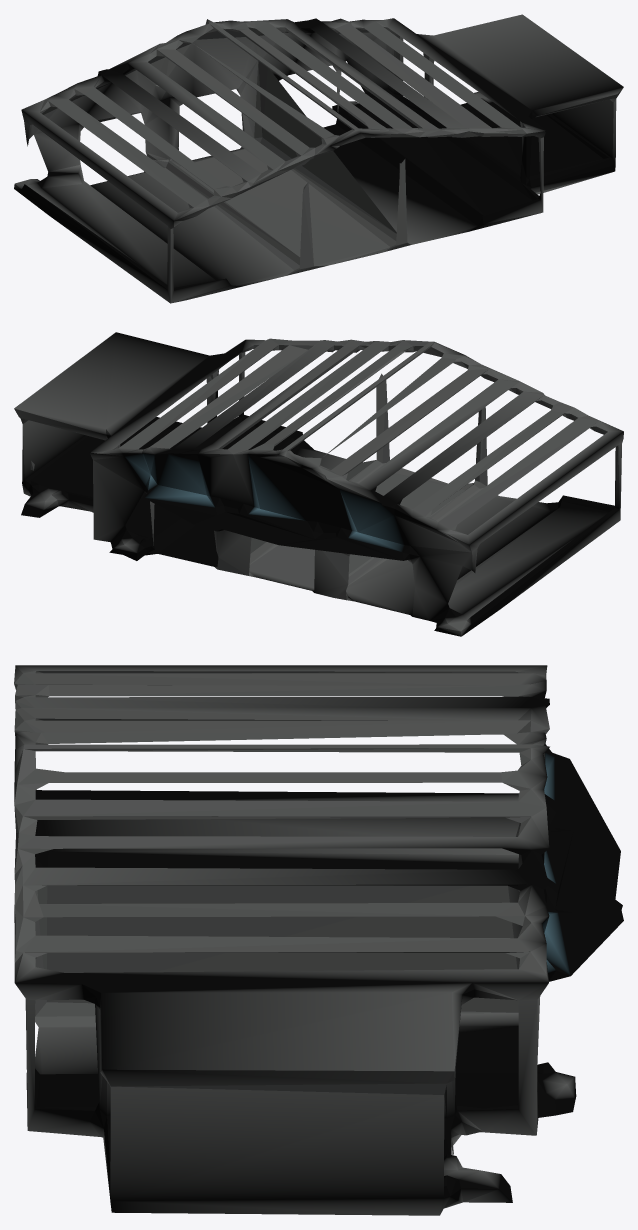
Rendered from Storage Buildings.glb.
3 renders of one model, top to bottom at view 1: azimuth 30°, elevation 25°; view 2: azimuth 150°, elevation 25°; view 3: azimuth 270°, elevation 25°, orthographic. The views are drawn at different scales.
Visible parts, largest first — view 1: Root; view 2: Root; view 3: Root.
Part boxes in pixels (x1,y1,x2,y2): Root: (14, 14, 623, 303); Root: (14, 332, 623, 636); Root: (14, 665, 623, 1215).
Size of the model in its own units: 22.41 by 5.97 by 14.24.
